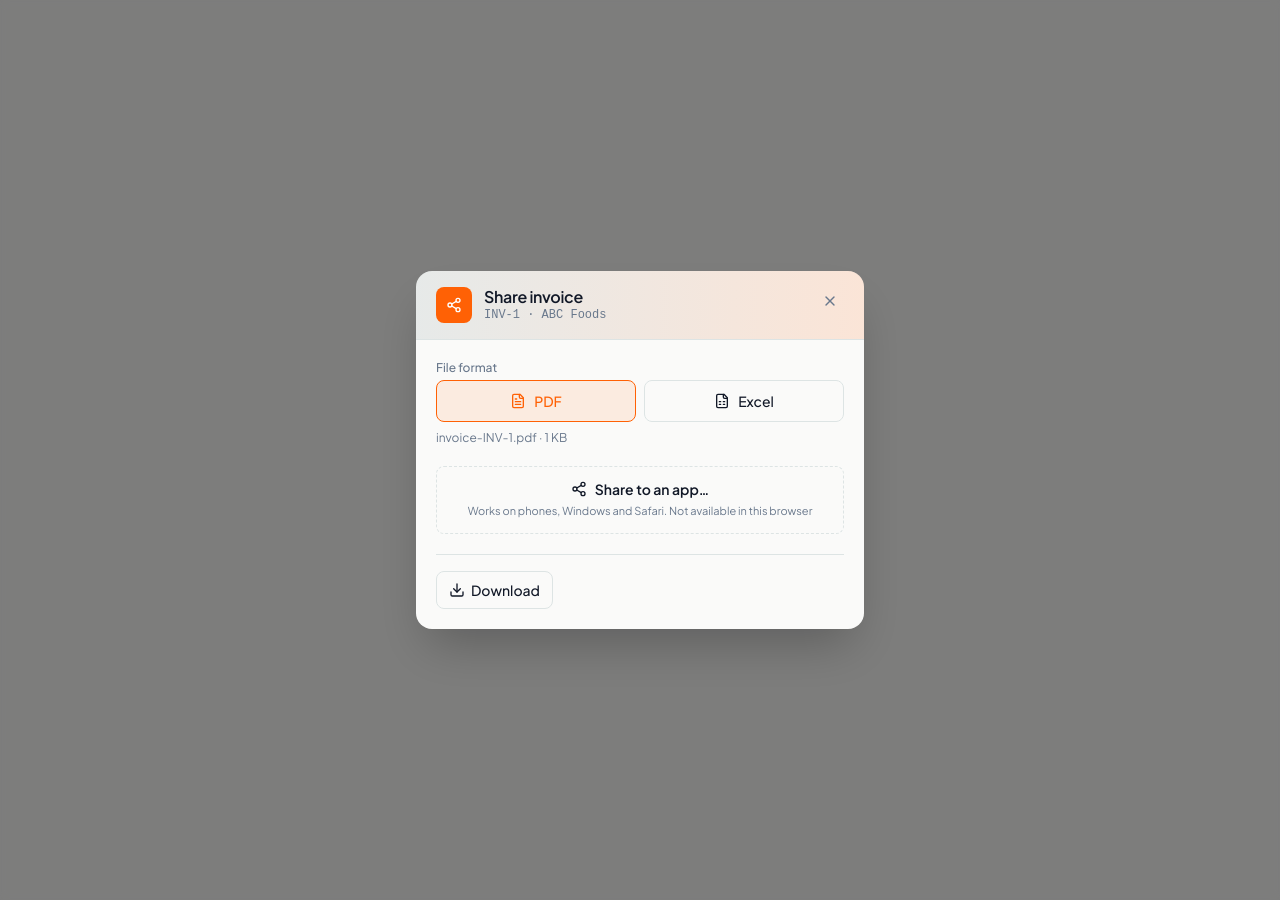
Test case: ShareInvoiceDialog › always shows "Share to an app", and explains itself when the browser cannot share files
Check: the text "invoice-INV-1.pdf · 1 KB" is shown, box [436,430,567,446]
Check: the text "Works on phones, Windows and Safari" is shown, box [468,504,812,517]
What coordinates should you click on to do the following:
click the button "Share to an app"
I would click on:
 (640, 500)
Its box is [436,466,844,534].
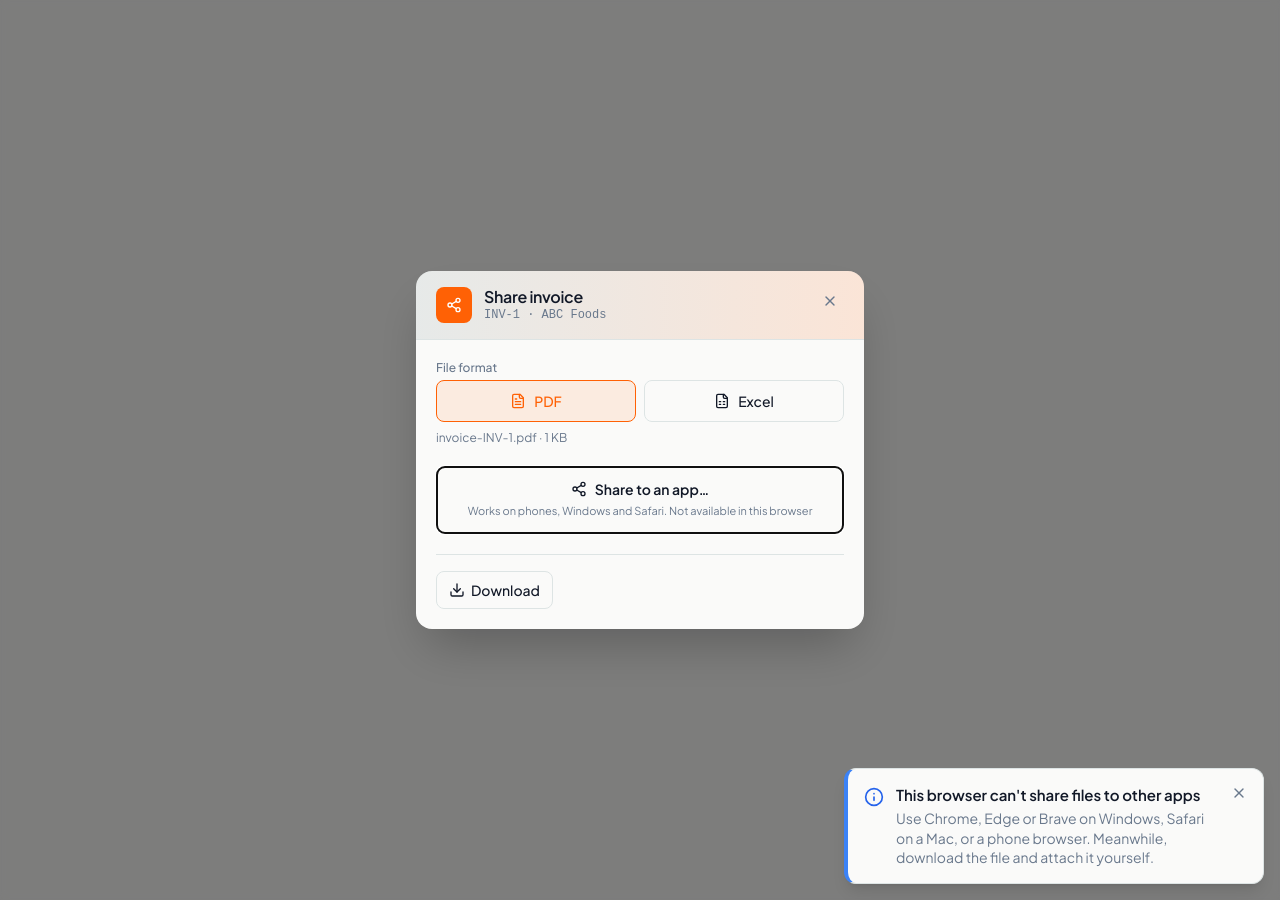
Check: the text "This browser can't share files to other apps" is shown, box [896,785,1215,805]
